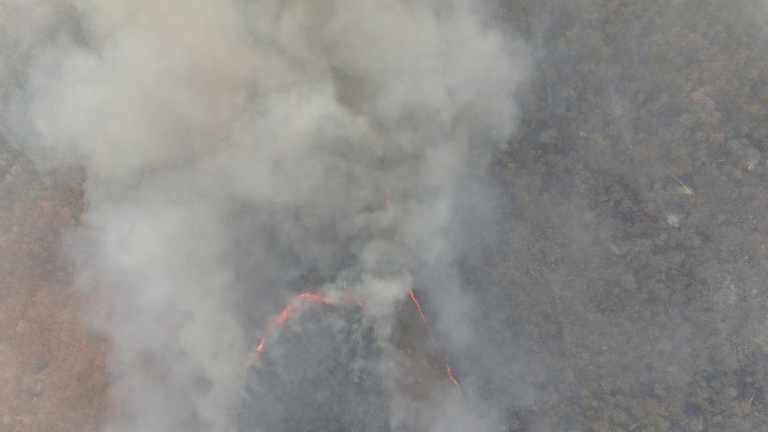fire: (245, 285, 367, 367), (397, 288, 450, 357), (386, 173, 408, 264), (441, 361, 475, 406)
smoke: (28, 2, 278, 409), (230, 1, 504, 276)
